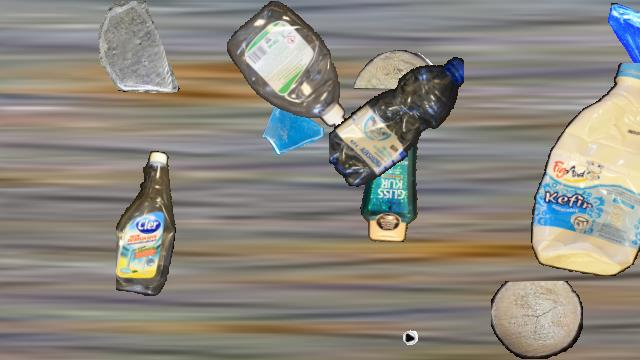glass: (93, 1, 185, 93), (261, 94, 327, 160), (602, 1, 640, 83)
metal: (365, 290, 425, 350)
plastic: (527, 63, 640, 275), (329, 50, 463, 190), (227, 1, 347, 131), (356, 99, 428, 241), (116, 151, 176, 295)
wood: (491, 281, 583, 359), (354, 50, 438, 88)
